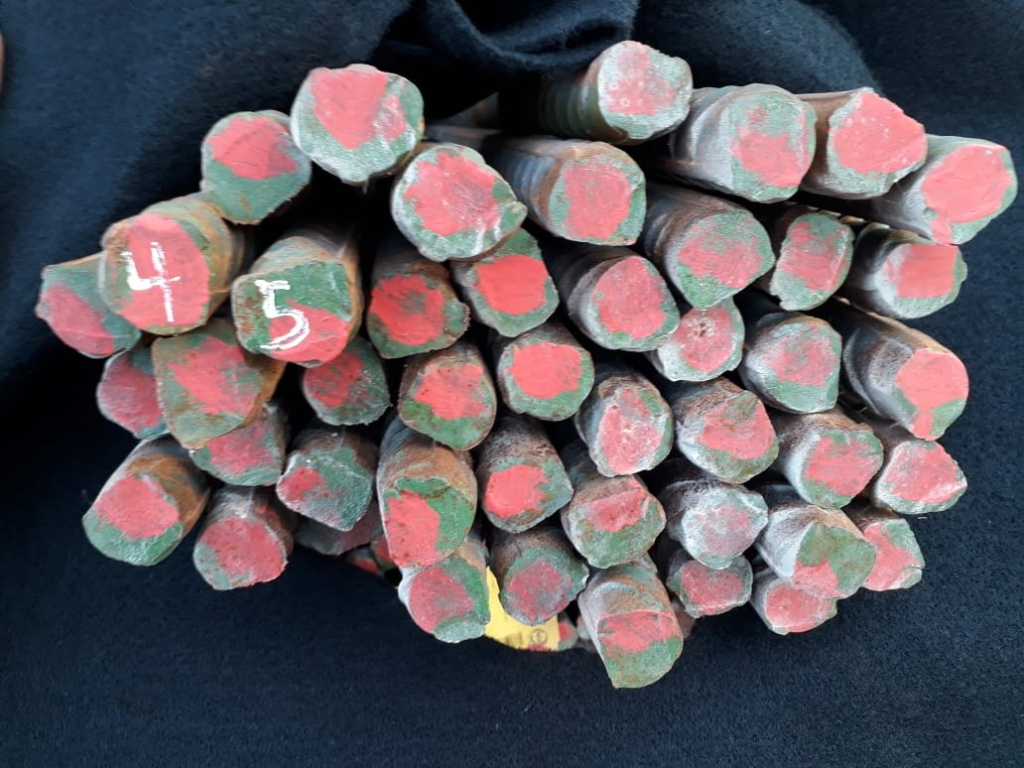dipstick: (291, 62, 417, 183), (397, 147, 526, 260), (147, 326, 267, 442), (232, 262, 354, 368), (99, 217, 208, 335), (200, 113, 309, 223), (672, 209, 776, 309), (830, 87, 927, 194), (547, 145, 647, 245), (598, 38, 692, 141), (38, 268, 143, 360), (397, 357, 499, 449), (731, 90, 817, 199), (84, 476, 181, 572), (465, 237, 559, 336), (924, 144, 1016, 244), (586, 254, 678, 351), (367, 275, 470, 355), (382, 476, 472, 565), (400, 558, 491, 646), (496, 341, 595, 420), (691, 395, 779, 483), (761, 319, 843, 412), (773, 214, 853, 308), (193, 406, 283, 488), (572, 488, 665, 567), (306, 338, 390, 425), (192, 517, 289, 591), (891, 347, 969, 439), (876, 243, 967, 320), (596, 387, 673, 478), (596, 610, 684, 689), (280, 452, 368, 529), (800, 429, 884, 508), (664, 300, 745, 381), (684, 492, 769, 569), (794, 520, 874, 599), (880, 443, 967, 515), (488, 457, 573, 529), (502, 555, 585, 623), (96, 354, 160, 442), (672, 552, 753, 616), (854, 520, 925, 591), (764, 577, 839, 638)
